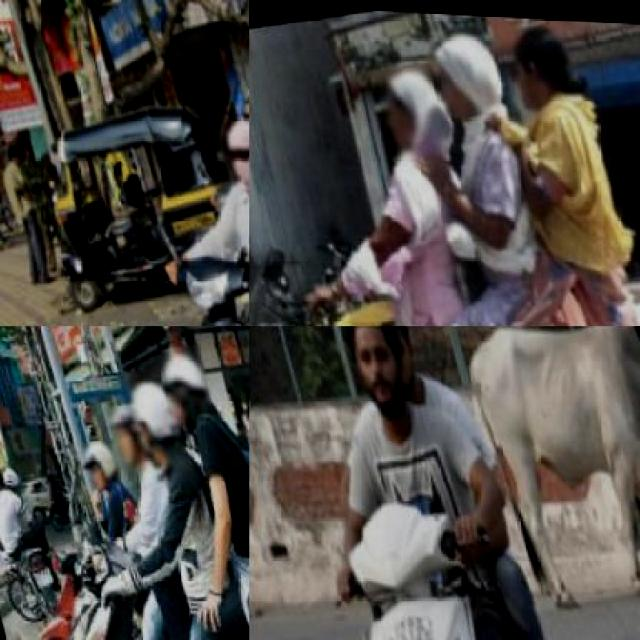With Helmet: (111, 362, 192, 492), (152, 338, 214, 419), (102, 399, 148, 470), (73, 435, 119, 490)
Without Helmet: (371, 59, 451, 163), (421, 17, 502, 118), (502, 12, 583, 112), (337, 326, 414, 411), (214, 109, 248, 186)
